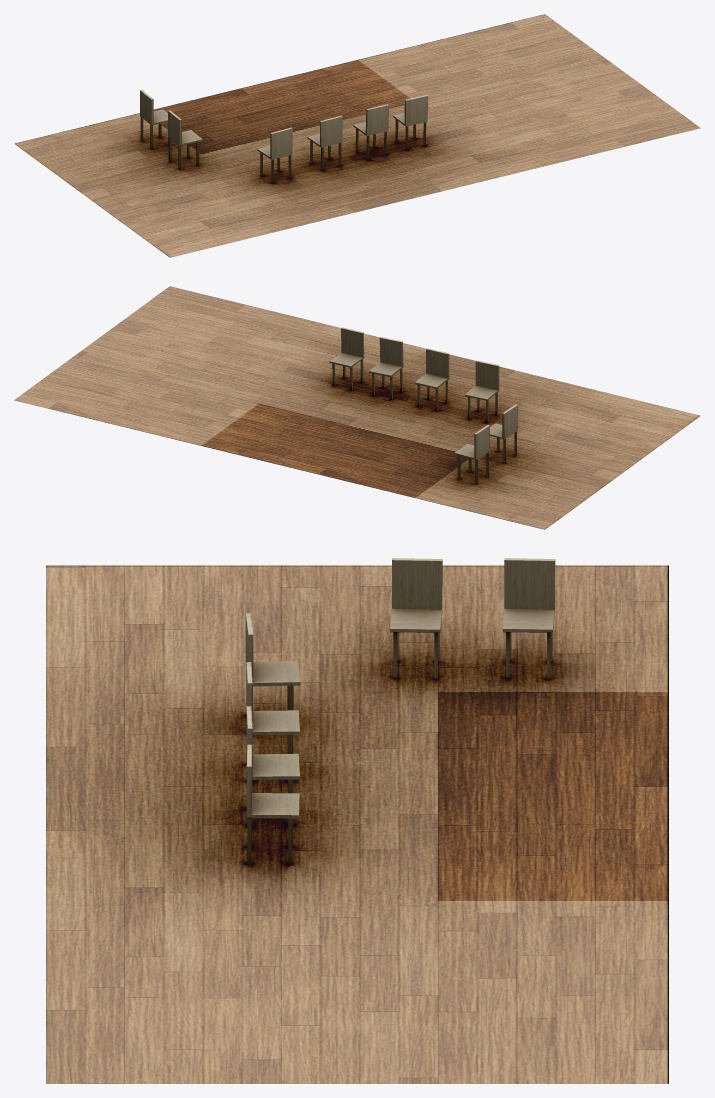
Rendered from sushifloor.obj.
The picture shows the model from 3 angles, top to bottom: view 1: azimuth 30°, elevation 25°; view 2: azimuth 150°, elevation 25°; view 3: azimuth 270°, elevation 25°; orthographic projection. The views are drawn at different scales.
Size of the model in its own units: 8.9 by 0.816 by 4.52.
1 material, 1 textured.
